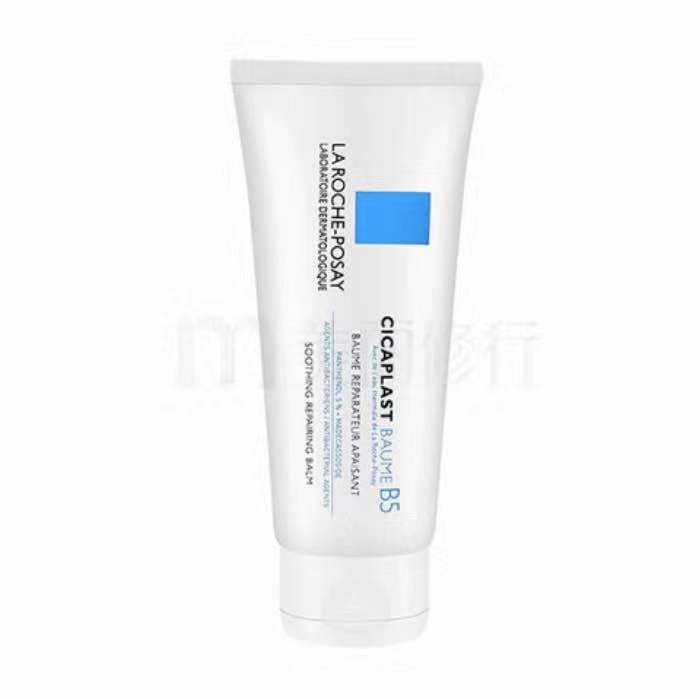cosmetic: (228, 64, 485, 652)
